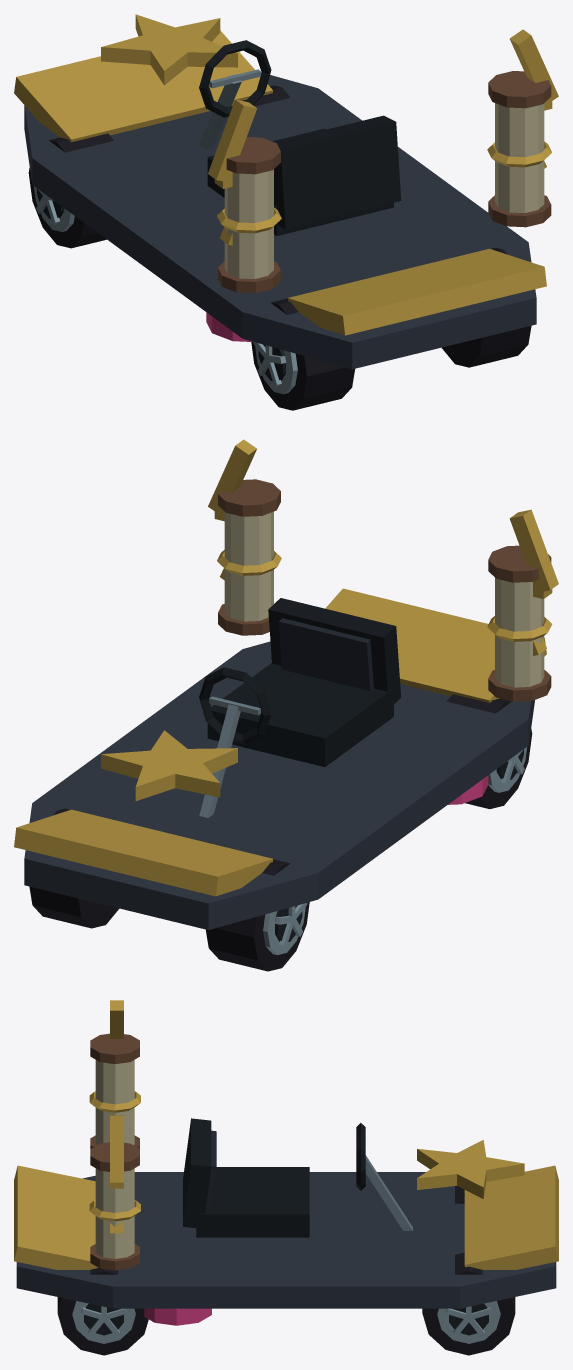
File: kart.glb
3 renders of one model, top to bottom at view 1: azimuth 30°, elevation 25°; view 2: azimuth 150°, elevation 25°; view 3: azimuth 270°, elevation 25°, orthographic. The views are drawn at different scales.
Visible parts, largest first — view 1: identity-hoverboard-hoverboard-turned-up-deck, identity-hoverboard-motif-scrolls, identity-hoverboard-driver-cockpit, identity-hoverboard-motif-star, wheel-rear-left, identity-hoverboard-motif-electric, wheel-front-left, wheel-rear-right; view 2: identity-hoverboard-hoverboard-turned-up-deck, identity-hoverboard-driver-cockpit, identity-hoverboard-motif-scrolls, identity-hoverboard-motif-star, wheel-front-left, identity-hoverboard-motif-electric, wheel-rear-left, wheel-front-right; view 3: identity-hoverboard-hoverboard-turned-up-deck, identity-hoverboard-driver-cockpit, identity-hoverboard-motif-scrolls, wheel-front-right, wheel-rear-right, identity-hoverboard-motif-star, identity-hoverboard-motif-electric.
Part boxes in pixels (x1,y1,x2,y2): identity-hoverboard-hoverboard-turned-up-deck: [14, 30, 546, 369]; identity-hoverboard-motif-scrolls: [217, 71, 551, 293]; identity-hoverboard-driver-cockpit: [199, 40, 401, 236]; identity-hoverboard-motif-star: [101, 14, 237, 85]; wheel-rear-left: [251, 298, 354, 410]; identity-hoverboard-motif-electric: [208, 29, 558, 245]; wheel-front-left: [28, 133, 113, 248]; wheel-rear-right: [442, 247, 531, 367]; identity-hoverboard-hoverboard-turned-up-deck: [14, 588, 546, 929]; identity-hoverboard-driver-cockpit: [199, 598, 401, 817]; identity-hoverboard-motif-scrolls: [217, 479, 552, 701]; identity-hoverboard-motif-star: [101, 730, 237, 800]; wheel-front-left: [206, 859, 309, 971]; identity-hoverboard-motif-electric: [208, 439, 558, 655]; wheel-rear-left: [447, 694, 532, 809]; wheel-front-right: [29, 808, 119, 928]; identity-hoverboard-hoverboard-turned-up-deck: [14, 1165, 558, 1325]; identity-hoverboard-driver-cockpit: [183, 1118, 412, 1237]; identity-hoverboard-motif-scrolls: [89, 1033, 140, 1270]; wheel-front-right: [422, 1252, 515, 1355]; wheel-rear-right: [57, 1268, 148, 1355]; identity-hoverboard-motif-star: [417, 1140, 524, 1198]; identity-hoverboard-motif-electric: [110, 1000, 123, 1233].
Bounding box in the file's own units: 1.75 × 1.49 × 2.93.
